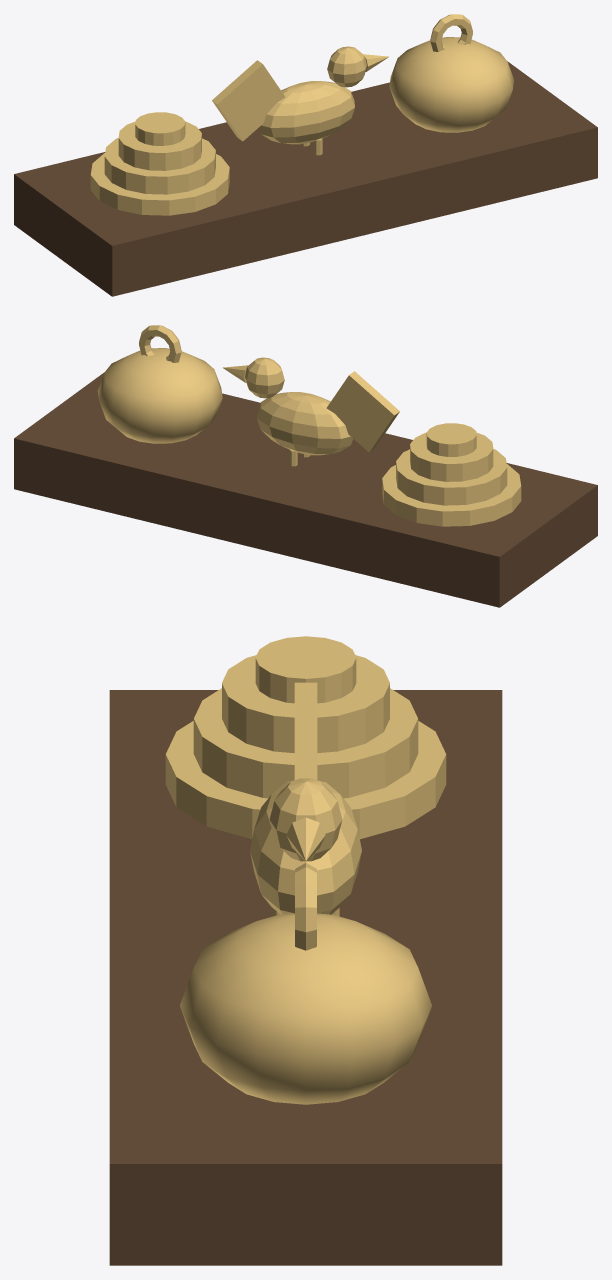
The model's file is exhibit4_goldweights.glb.
3 renders of one model, top to bottom at view 1: azimuth 30°, elevation 25°; view 2: azimuth 150°, elevation 25°; view 3: azimuth 270°, elevation 25°, orthographic. The views are drawn at different scales.
Parts seen in each view (by area): view 1: pedestal, gold_weights; view 2: pedestal, gold_weights; view 3: pedestal, gold_weights.
Part boxes in pixels (left/top/right/bottom): pedestal: left=14, top=61, right=597, bottom=296; gold_weights: left=90, top=14, right=514, bottom=215; pedestal: left=14, top=372, right=597, bottom=607; gold_weights: left=97, top=325, right=521, bottom=526; pedestal: left=109, top=690, right=502, bottom=1265; gold_weights: left=165, top=636, right=446, bottom=1104.
Size of the model in its own units: 0.4 by 0.1195 by 0.14.
